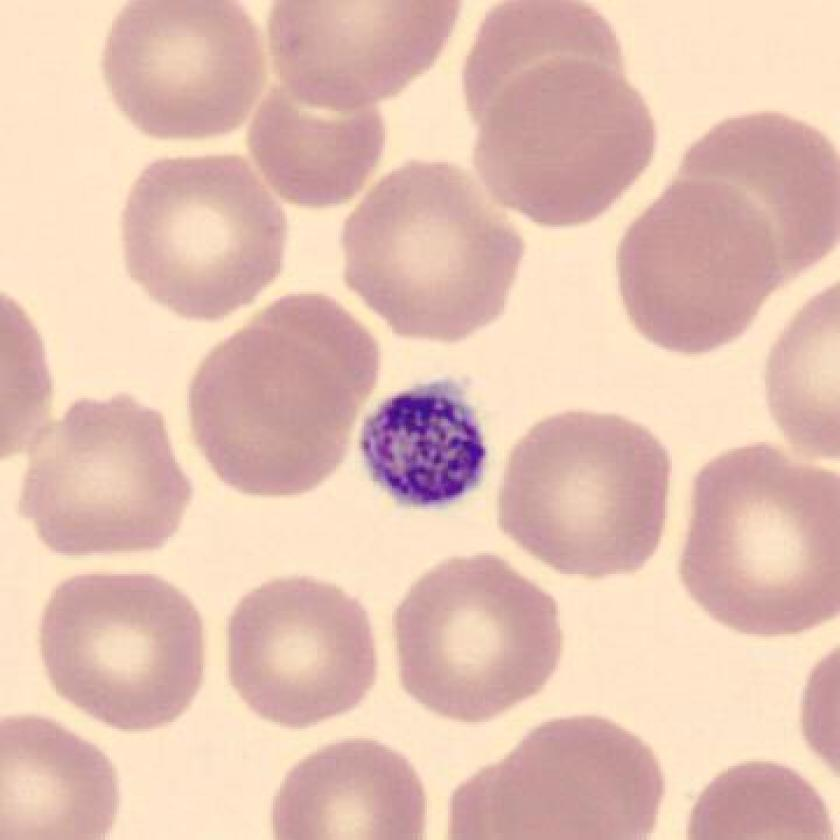platelets: (358, 379, 496, 513)
